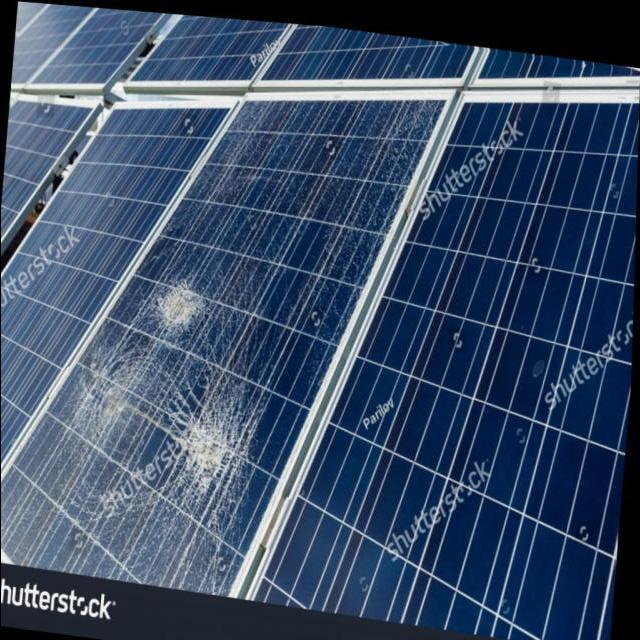cracked: (13, 93, 446, 598)
